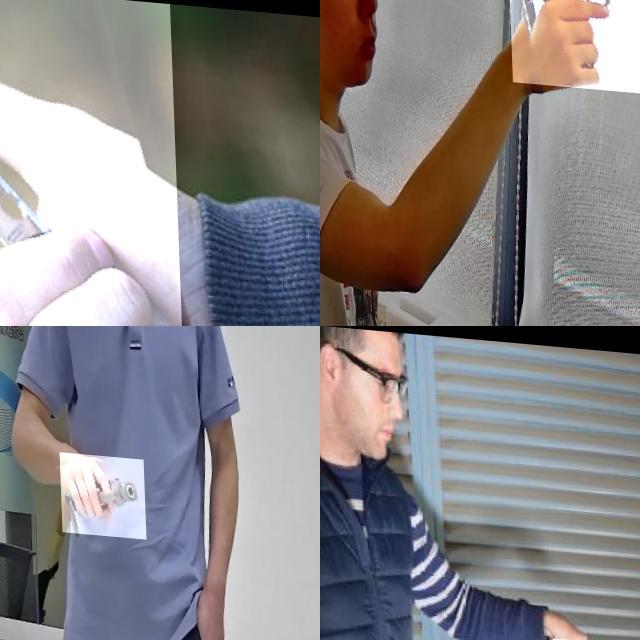-: (0, 0, 182, 326)
gun-knife-thesis - v11 Yolov5 augmented: (506, 0, 640, 94), (59, 450, 144, 536)
